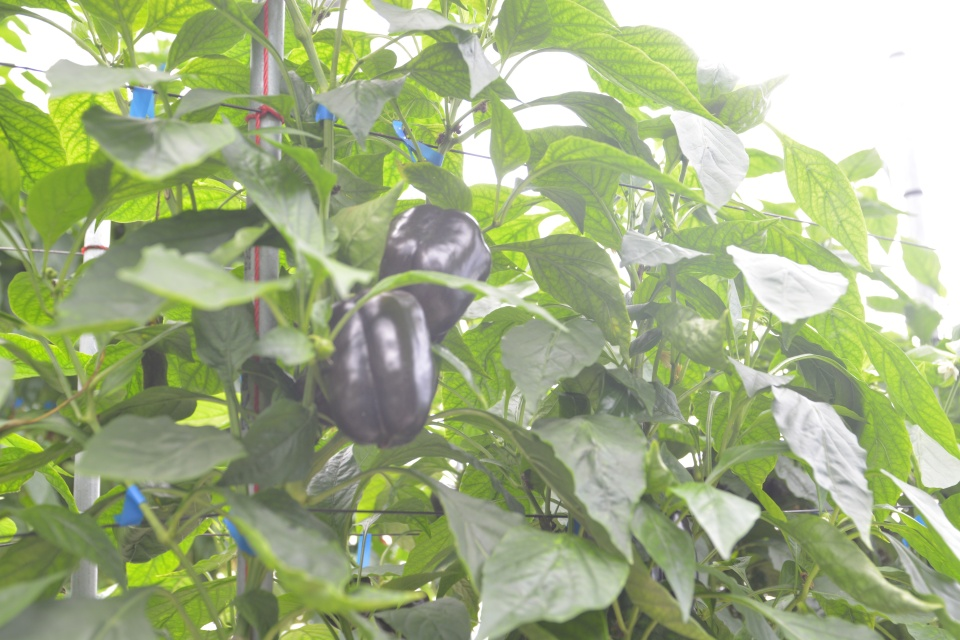fruit: (323, 288, 438, 451), (380, 202, 493, 346)
